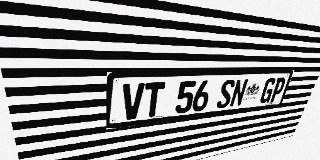5: (175, 81, 197, 114)
6: (191, 80, 212, 112)
G: (258, 78, 277, 104)
N: (229, 79, 249, 107)
P: (269, 77, 287, 103)
S: (216, 79, 236, 109)
T: (142, 82, 165, 118)
V: (121, 83, 145, 120)
